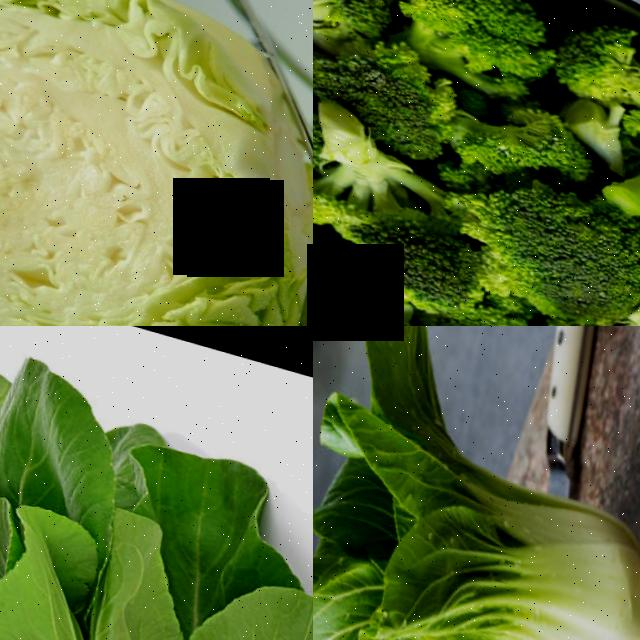bok choy: (313, 339, 640, 640), (0, 340, 170, 640), (47, 494, 313, 640)
broccoli: (439, 161, 640, 326), (378, 0, 564, 108), (313, 106, 449, 235), (313, 43, 443, 142), (591, 81, 640, 255)
cabbage: (0, 0, 313, 326)
